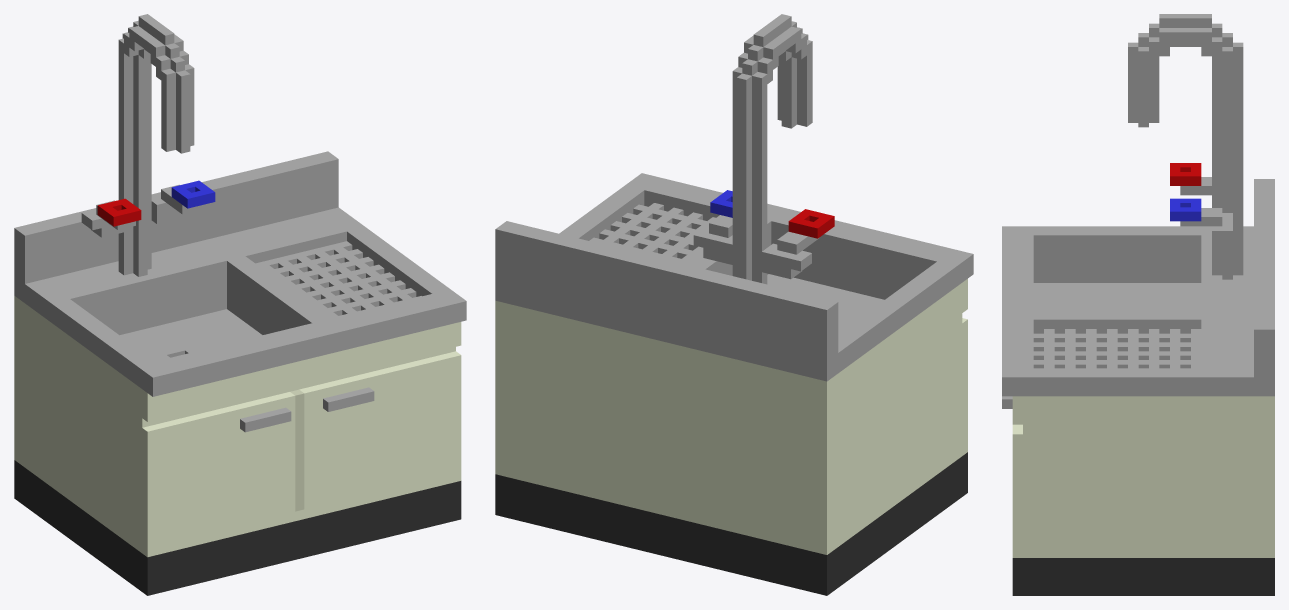
The model's file is Washstand1.fbx.
The picture shows the model from 3 angles, left to right: view 1: azimuth 30°, elevation 25°; view 2: azimuth 150°, elevation 25°; view 3: azimuth 270°, elevation 25°; orthographic projection. The views are drawn at different scales.
Visible parts, largest first — view 1: Washstand1.001, Washstand1.002, Washstand1; view 2: Washstand1.001, Washstand1.002; view 3: Washstand1.001, Washstand1.
Boxes of the visible parts, box(x1,y1,x2,y2) form: Washstand1.001: box(14, 14, 466, 595); Washstand1.002: box(142, 389, 304, 547); Washstand1: box(299, 351, 461, 509); Washstand1.001: box(495, 14, 973, 595); Washstand1.002: box(962, 318, 967, 445); Washstand1.001: box(1002, 14, 1274, 595); Washstand1: box(1002, 396, 1022, 548).
Bounding box in the file's own units: 3.4 × 5 × 2.6.
